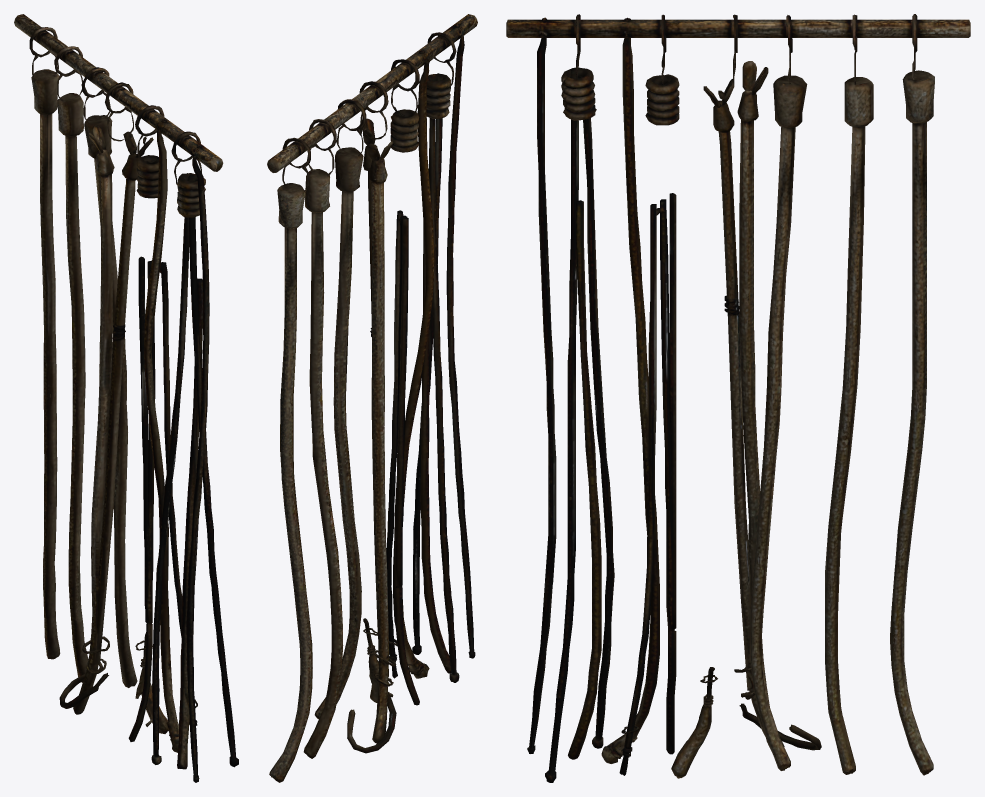
Rendered from prop-cable-curtain-v01.glb.
The picture shows the model from 3 angles, left to right: view 1: azimuth 30°, elevation 25°; view 2: azimuth 150°, elevation 25°; view 3: azimuth 270°, elevation 25°; orthographic projection. The views are drawn at different scales.
Parts seen in each view (by area): view 1: tripo_node_60192140-ee0e-4e19-8a8a-01856234e3e1; view 2: tripo_node_60192140-ee0e-4e19-8a8a-01856234e3e1; view 3: tripo_node_60192140-ee0e-4e19-8a8a-01856234e3e1.
Part boxes in pixels (x1,y1,x2,y2): tripo_node_60192140-ee0e-4e19-8a8a-01856234e3e1: [14, 14, 238, 782]; tripo_node_60192140-ee0e-4e19-8a8a-01856234e3e1: [267, 14, 477, 782]; tripo_node_60192140-ee0e-4e19-8a8a-01856234e3e1: [506, 14, 970, 782].
Size of the model in its own units: 0.2721 by 2.21 by 1.24.
1 material, 1 textured.
